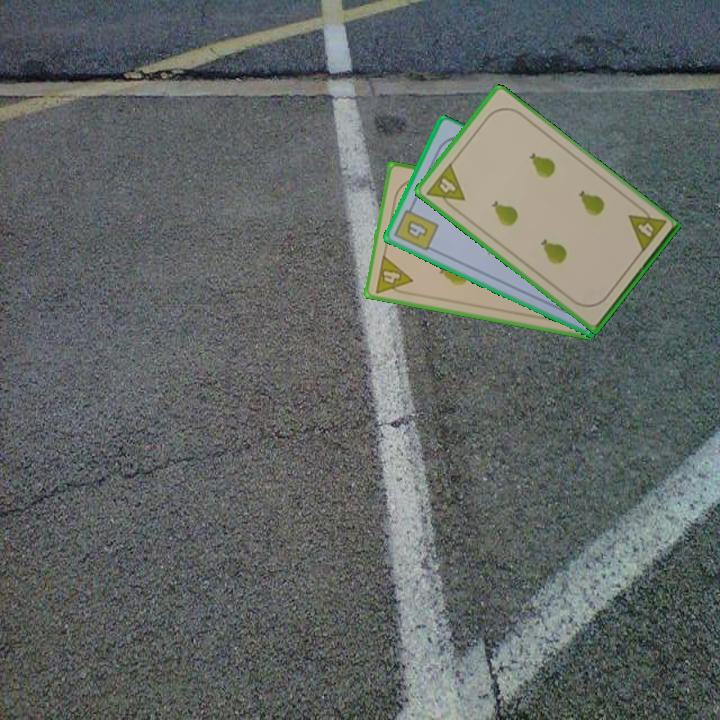4b: (391, 200, 441, 254)
4p: (423, 160, 468, 214), (625, 202, 669, 256), (371, 251, 415, 298)
